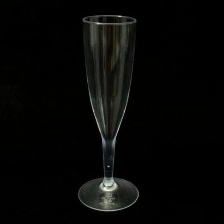glass: (71, 9, 144, 214)
